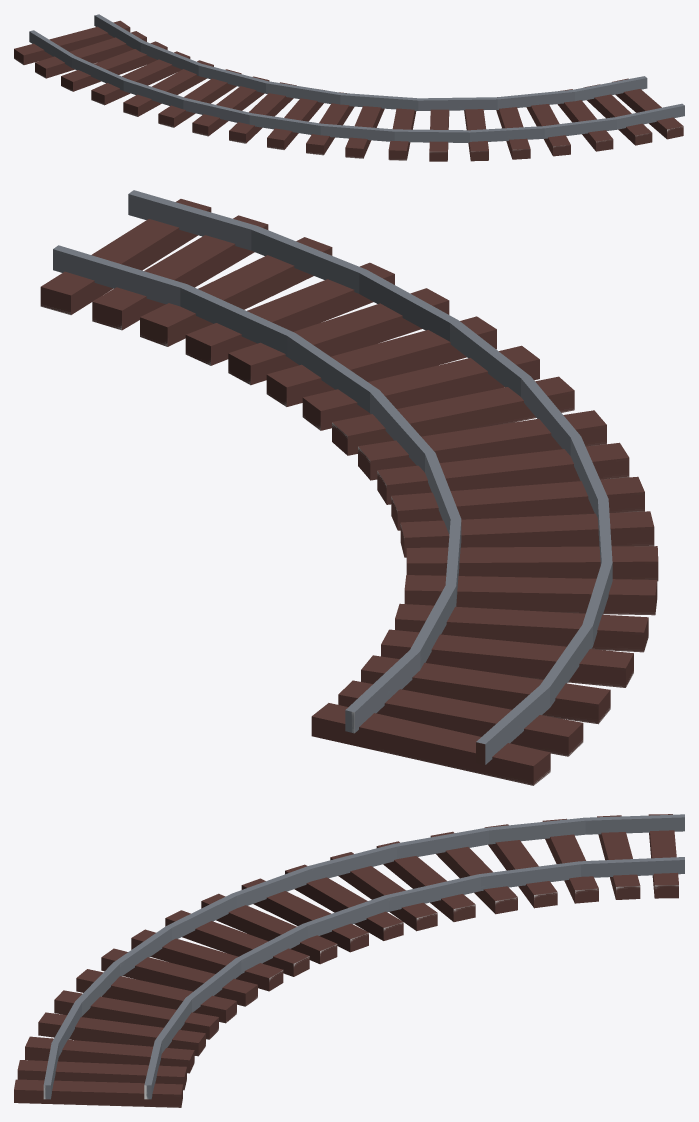
Rendered from curve-4-track.blend.glb.
3 renders of one model, top to bottom at view 1: azimuth 30°, elevation 25°; view 2: azimuth 150°, elevation 25°; view 3: azimuth 270°, elevation 25°, orthographic. The views are drawn at different scales.
Parts seen in each view (by area): view 1: curve-4; view 2: curve-4; view 3: curve-4.
Boxes of the visible parts, bbox=[...] form: curve-4: bbox=[14, 14, 684, 161]; curve-4: bbox=[40, 190, 658, 785]; curve-4: bbox=[14, 814, 684, 1107].
Size of the model in its own units: 8 by 0.3391 by 8.
1 material, 1 textured.
